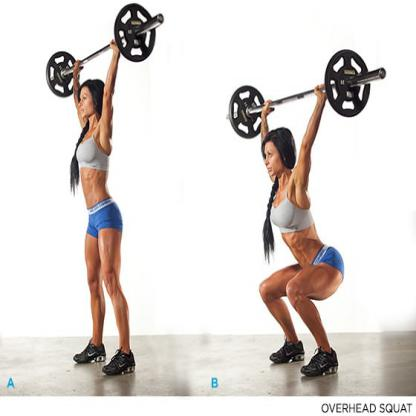Barbell: (322, 46, 376, 124), (111, 2, 162, 66)
